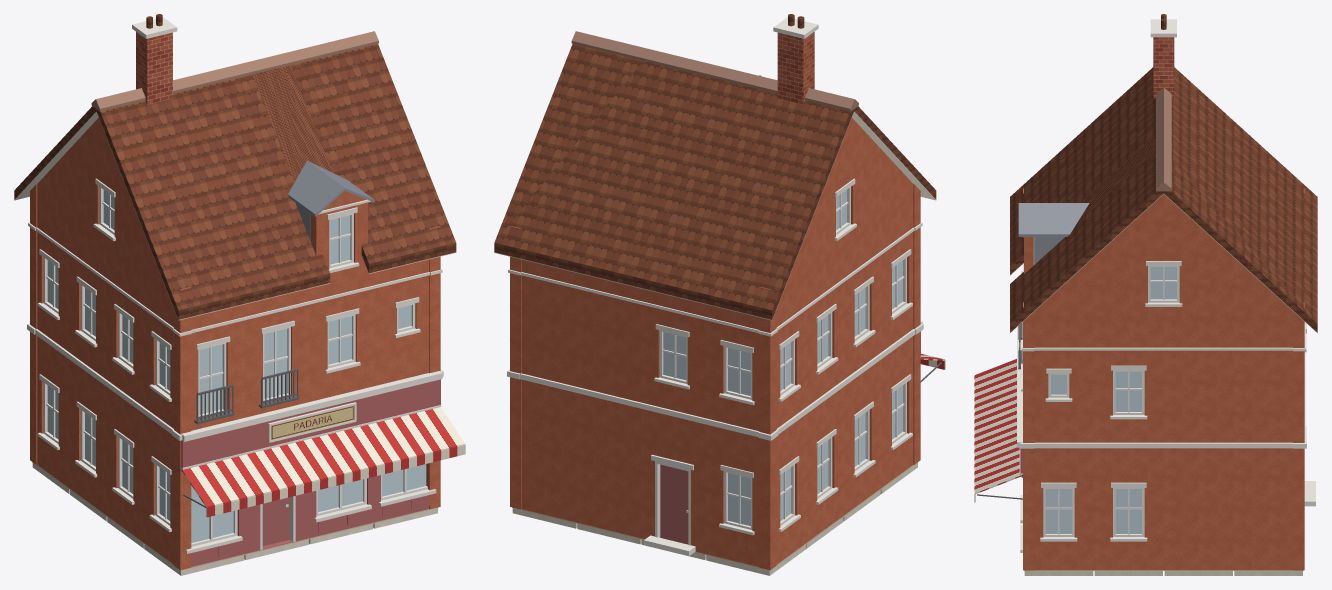
File: building_assembled.glb
3 views of the same model, side by side, from view 1: azimuth 30°, elevation 25°; view 2: azimuth 150°, elevation 25°; view 3: azimuth 270°, elevation 25° (orthographic). The views are drawn at different scales.
Parts seen in each view (by area): view 1: building_render, building_roof_tiles, building_canvas, building_trim, building_glass, building_shop_paint, building_frame, building_plaster, building_ridge, building_slate, building_brick, building_iron (+3 smaller); view 2: building_render, building_roof_tiles, building_trim, building_glass, building_frame, building_ridge, building_plaster, building_brick, building_door, building_floor; view 3: building_render, building_roof_tiles, building_trim, building_canvas, building_glass, building_slate, building_frame, building_plaster, building_ridge, building_brick.
Part boxes in pixels (bbox=[...]): building_render: bbox=[30, 118, 440, 570]; building_roof_tiles: bbox=[14, 14, 456, 319]; building_canvas: bbox=[181, 407, 465, 517]; building_trim: bbox=[27, 17, 443, 553]; building_glass: bbox=[47, 190, 426, 542]; building_shop_paint: bbox=[181, 379, 440, 566]; building_frame: bbox=[43, 187, 427, 549]; building_plaster: bbox=[14, 111, 456, 575]; building_ridge: bbox=[91, 31, 378, 111]; building_slate: bbox=[288, 160, 374, 240]; building_brick: bbox=[136, 32, 172, 104]; building_iron: bbox=[181, 369, 299, 507]; building_render: bbox=[510, 118, 920, 570]; building_roof_tiles: bbox=[494, 14, 936, 319]; building_trim: bbox=[507, 17, 923, 556]; building_glass: bbox=[663, 190, 902, 526]; building_frame: bbox=[655, 187, 906, 545]; building_ridge: bbox=[571, 31, 858, 111]; building_plaster: bbox=[494, 111, 936, 575]; building_brick: bbox=[777, 32, 814, 104]; building_door: bbox=[660, 464, 688, 544]; building_floor: bbox=[512, 464, 913, 570]; building_render: bbox=[1023, 188, 1304, 570]; building_roof_tiles: bbox=[1010, 14, 1317, 332]; building_trim: bbox=[1017, 19, 1315, 552]; building_canvas: bbox=[974, 359, 1022, 502]; building_glass: bbox=[1045, 267, 1176, 533]; building_slate: bbox=[1018, 203, 1089, 264]; building_frame: bbox=[1043, 266, 1179, 536]; building_plaster: bbox=[1010, 193, 1317, 575]; building_ridge: bbox=[1156, 87, 1171, 191]; building_brick: bbox=[1153, 37, 1174, 98].
Size of the model in its own units: 8.64 by 14.6 by 9.82.
17 materials, 6 textured.
